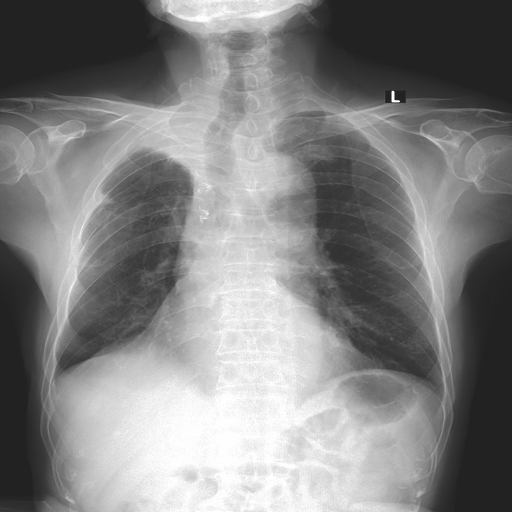Calcification: (94, 188, 118, 207)
Consolidation: (259, 151, 318, 218)
Infiltration: (133, 116, 207, 169)
Nodule/Mass: (145, 317, 371, 367)
Pneumothorax: (92, 188, 116, 205)
